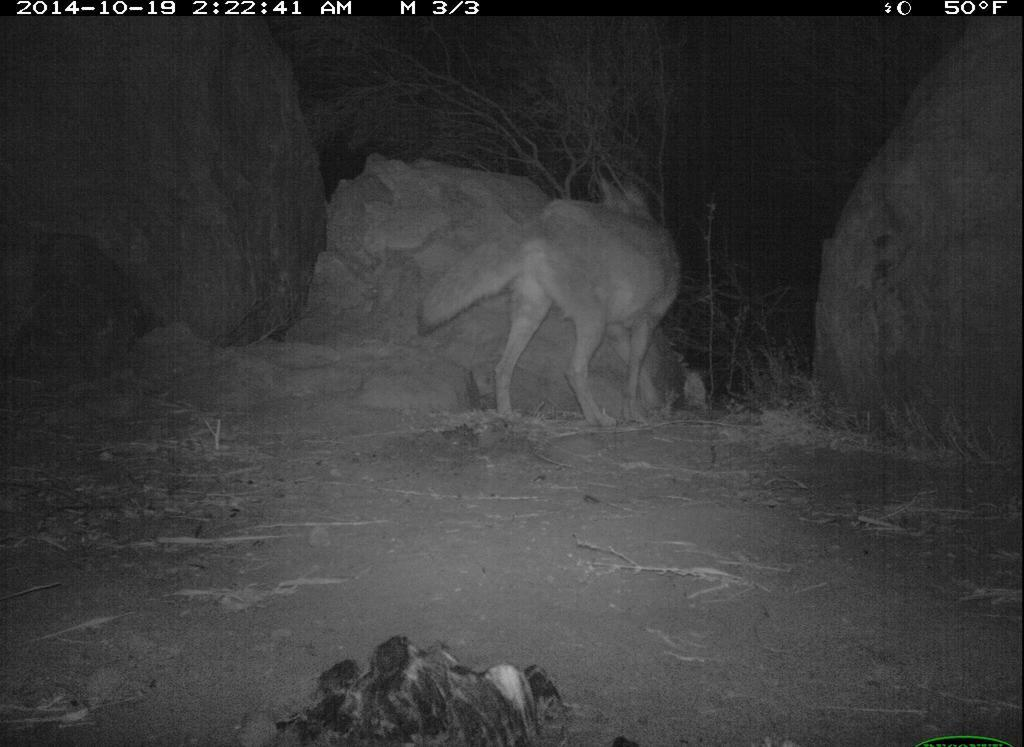coyote: (402, 176, 693, 442)
